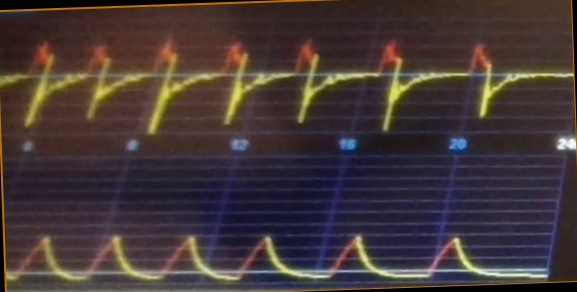Accumulation Flow: (4, 28, 541, 133)
Volume: (8, 219, 524, 285)
